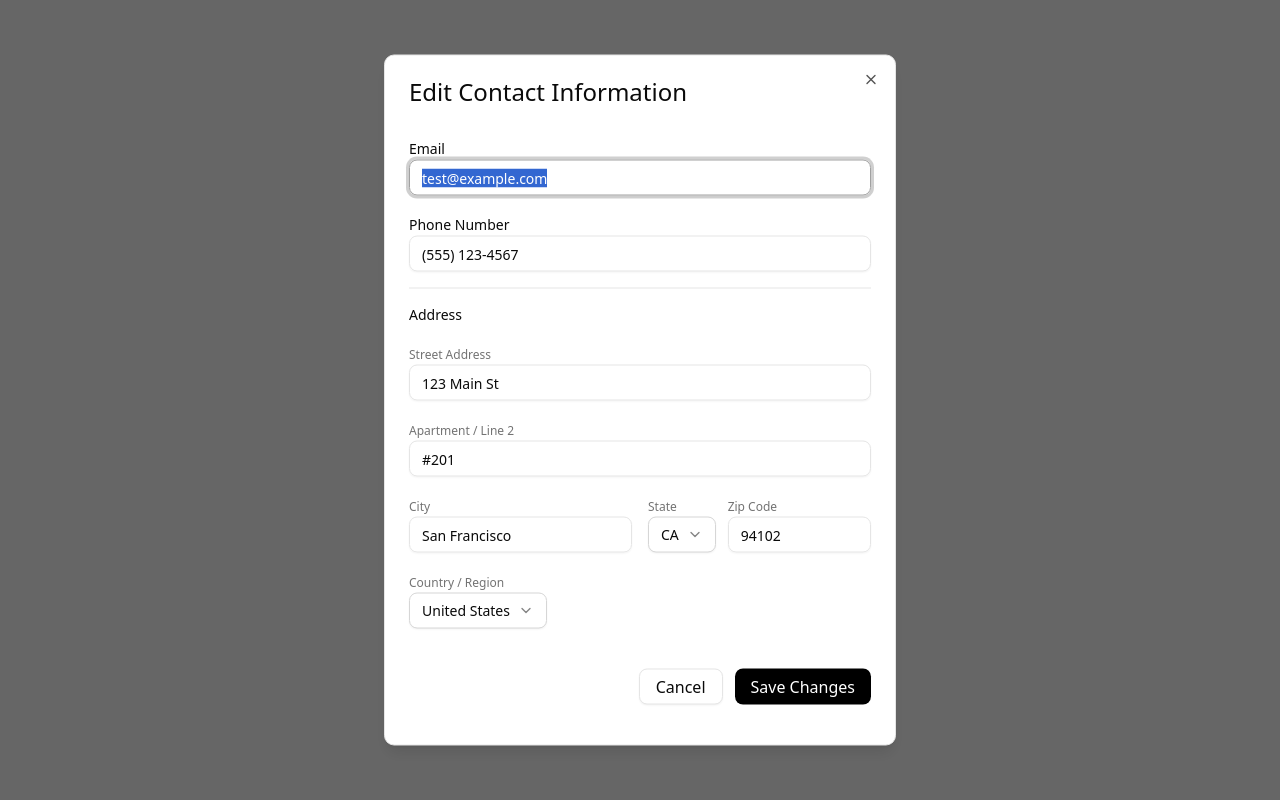
Scenario: EditContactInfoModal › Actions › should disable submit button when form is invalid
The image size is (1280, 800).
Clear the field below "Email": (640,178) [409,160,871,196]
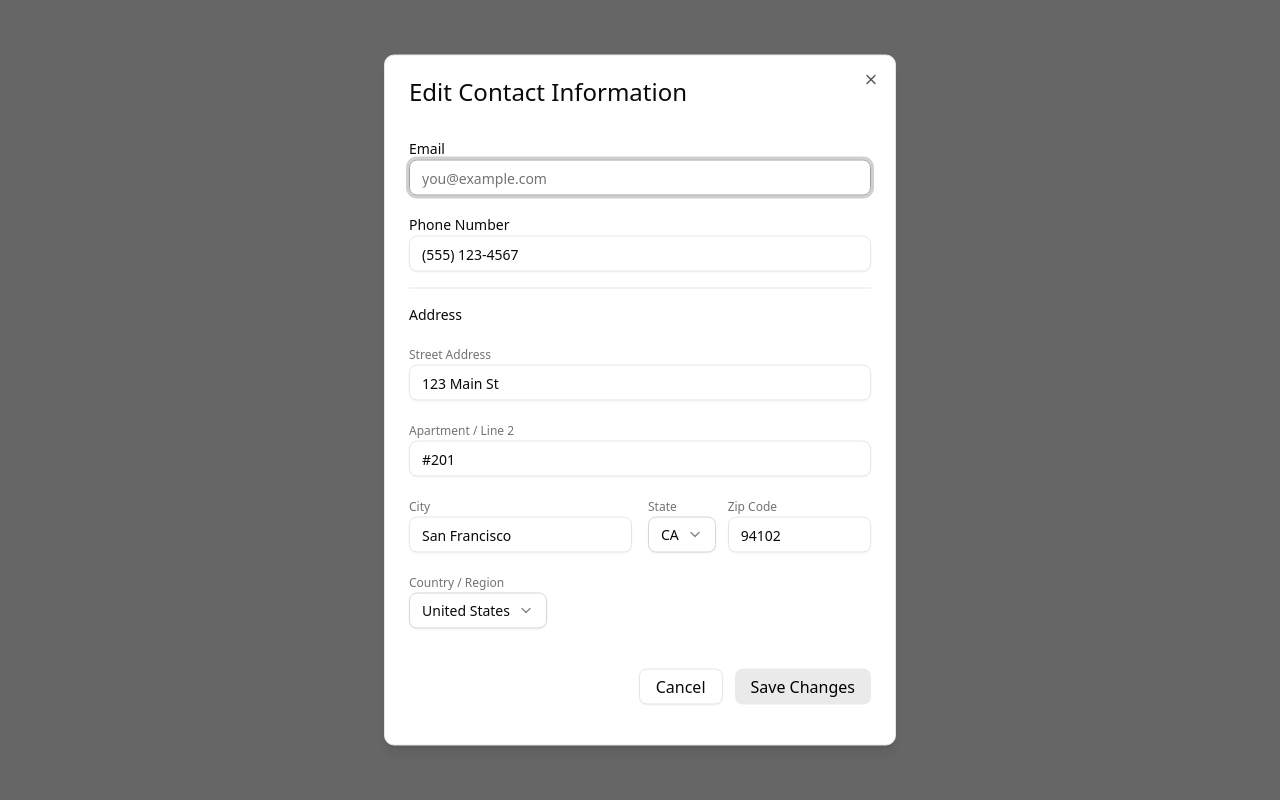
Expected: the button "Save Changes" is disabled, [734,668,871,704]
